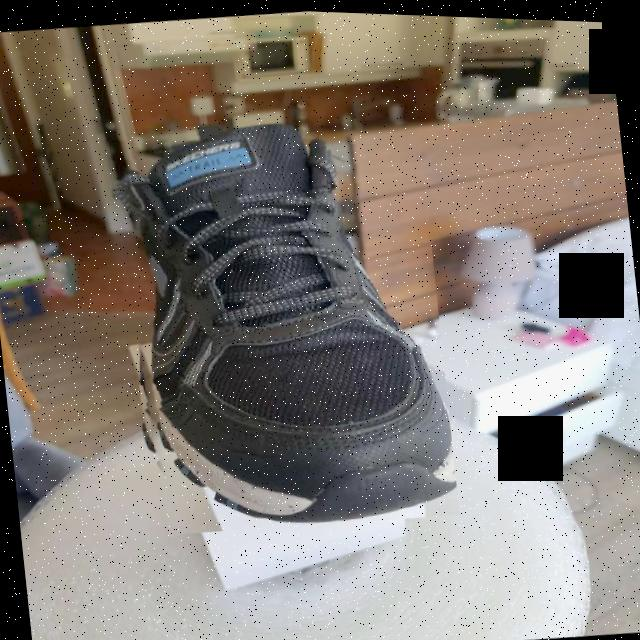shoe: (105, 98, 459, 544)
